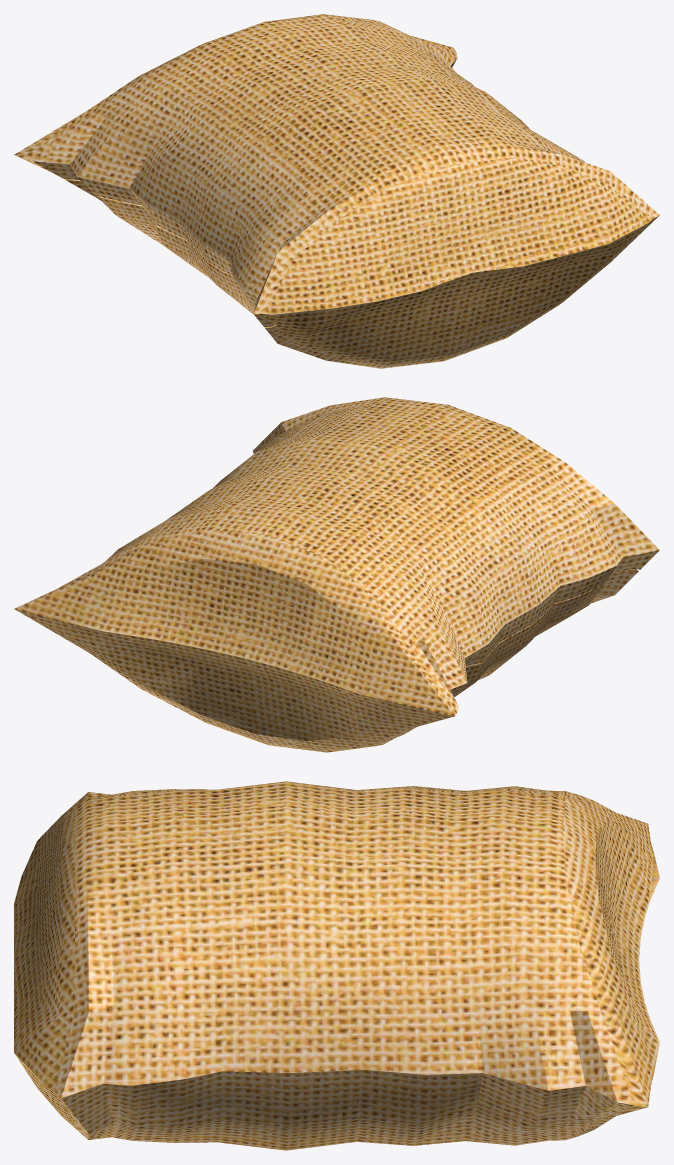
The model's file is RiceSack0_LOD.fbx.
The picture shows the model from 3 angles, top to bottom: view 1: azimuth 30°, elevation 25°; view 2: azimuth 150°, elevation 25°; view 3: azimuth 270°, elevation 25°; orthographic projection. The views are drawn at different scales.
Visible parts, largest first — view 1: RiceSack0_LOD0; view 2: RiceSack0_LOD0; view 3: RiceSack0_LOD0.
Boxes of the visible parts, <box> form: RiceSack0_LOD0: <box>14,14,659,368</box>; RiceSack0_LOD0: <box>14,397,659,752</box>; RiceSack0_LOD0: <box>14,781,659,1150</box>.
Size of what is drawn, in the model's own units: 305 by 156 by 294.
Materials: 1 (1 with a texture image).
